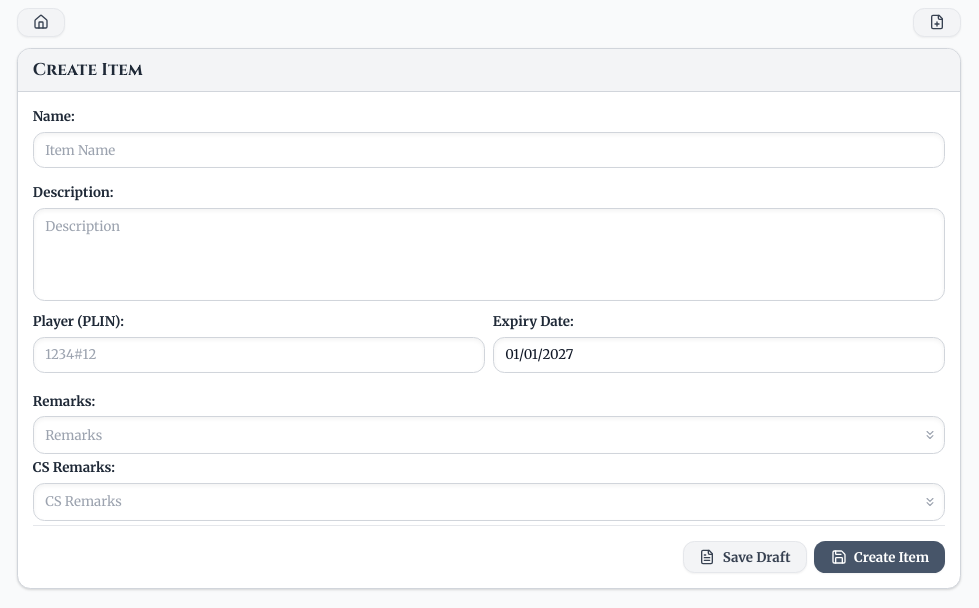
Scenario: CreateItem Page › formats PLIN input automatically
Type "12345" into the field with placeholder "1234#12" at (259, 355), box [33,336,485,373]
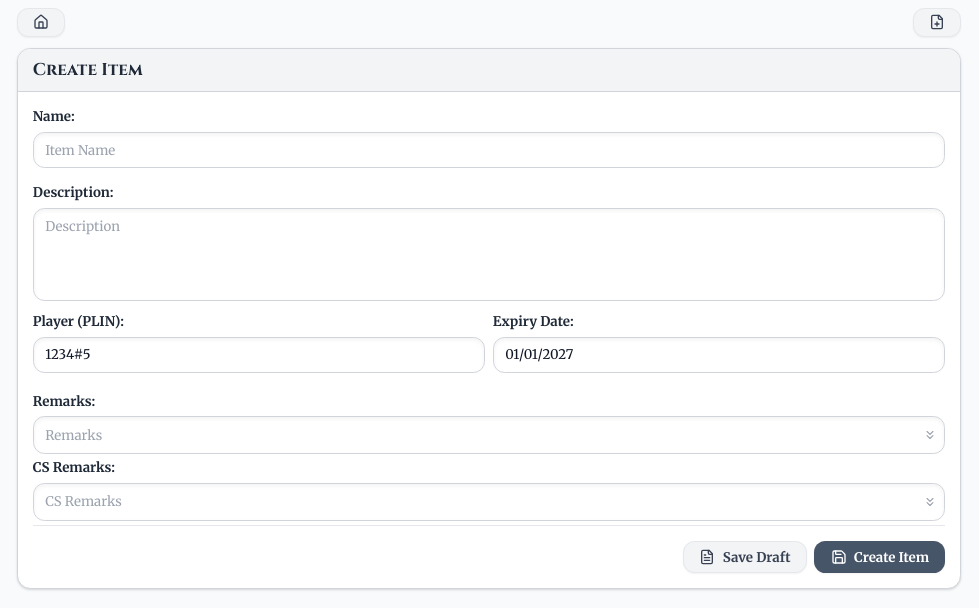
Check: the field with placeholder "1234#12" below "Player (PLIN)" holds "1234#5"
Replace the text in the field with placeholder "1234#12" below "Player (PLIN)" with "999912" at (259, 355), box [33,336,485,373]
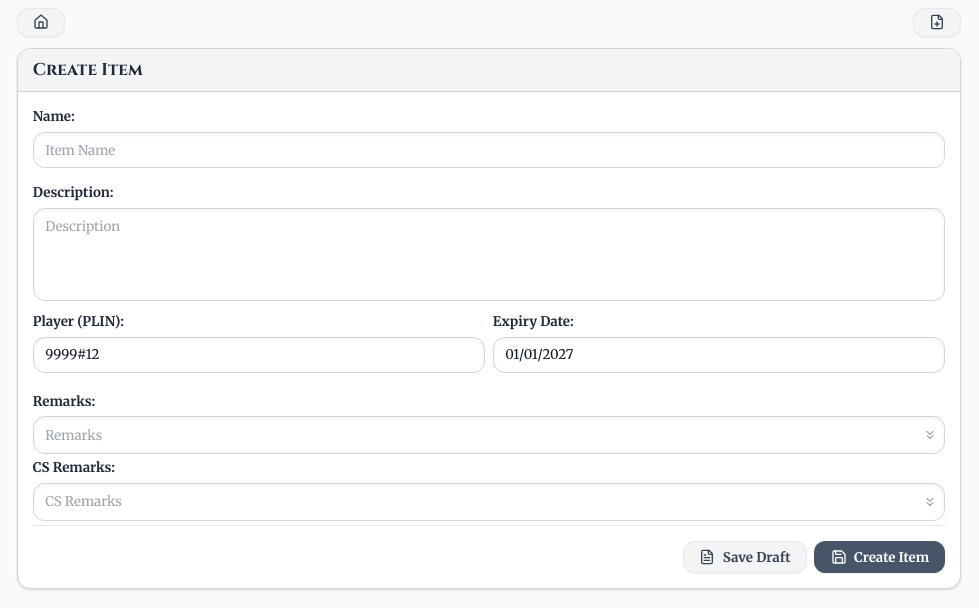
Check: the field with placeholder "1234#12" below "Player (PLIN)" holds "9999#12", box [33,336,485,373]
